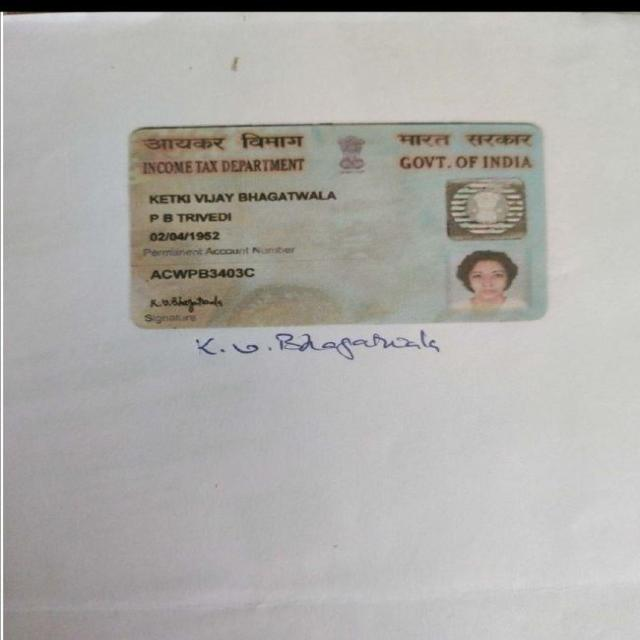pan_card: (127, 120, 553, 333)
